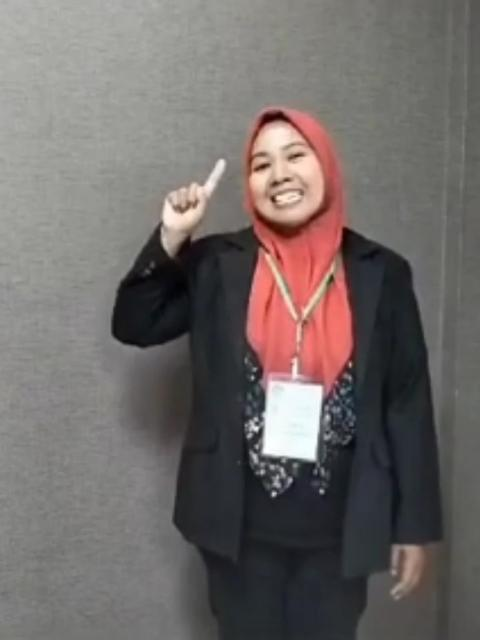Z: (156, 155, 226, 243)
